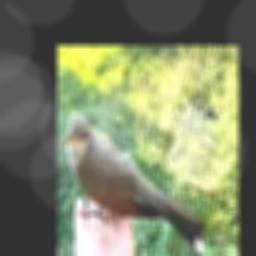Cuckoo: (61, 112, 205, 254)
